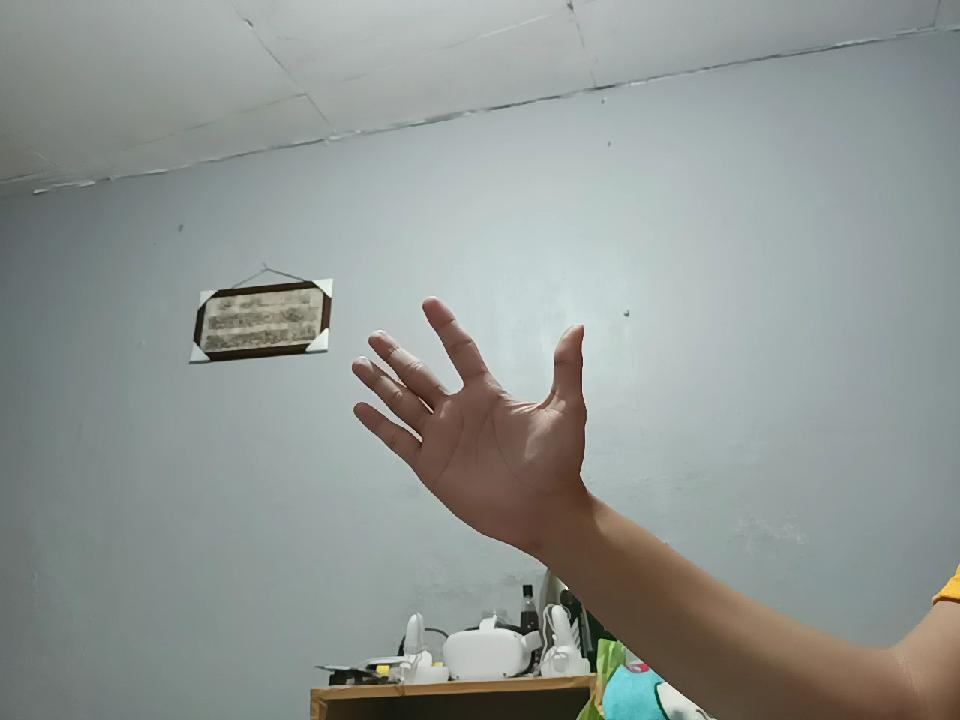paper: (343, 294, 605, 527)
